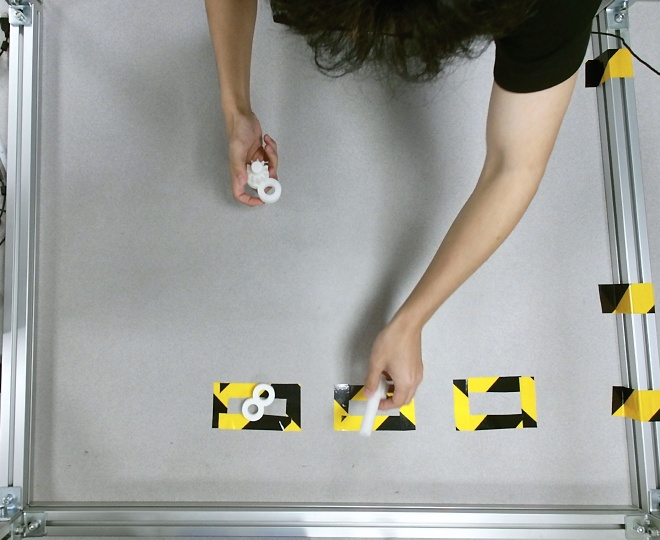stage_2: (245, 159, 281, 204)
